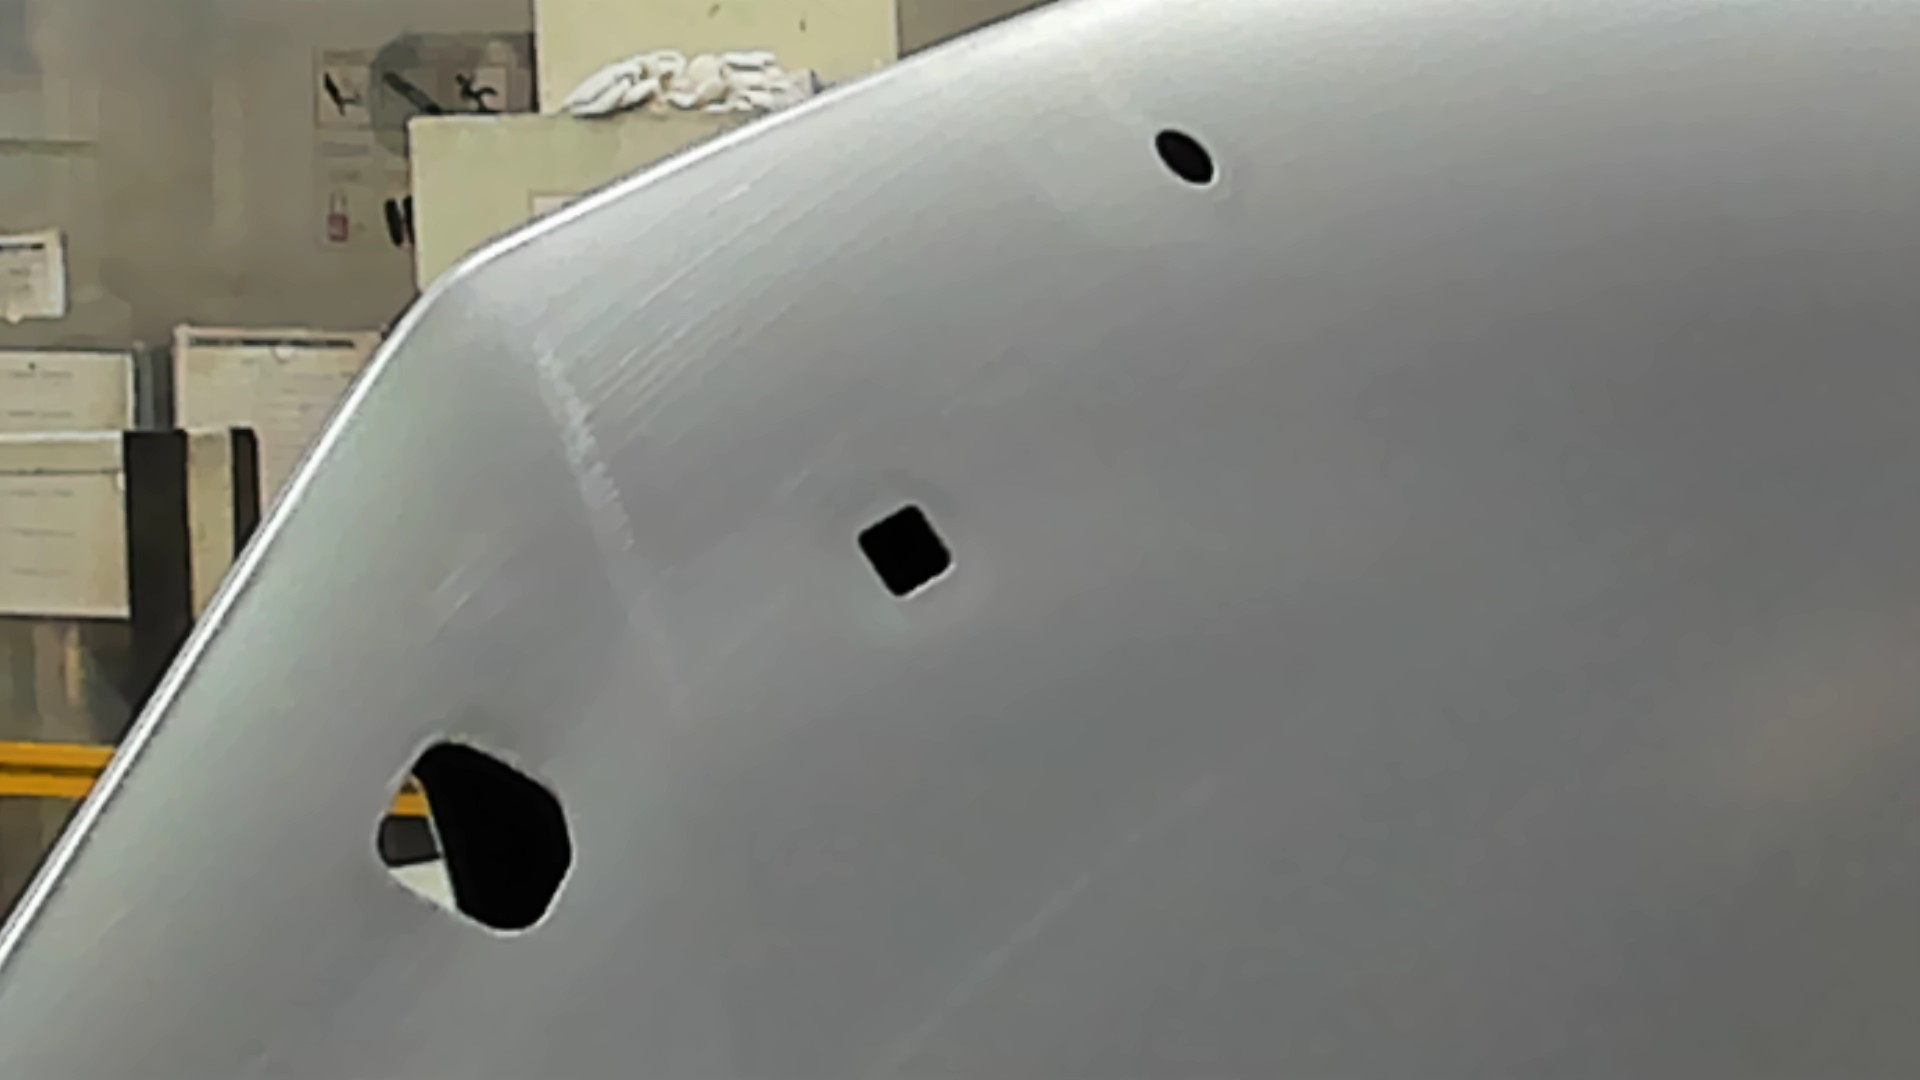chico: (1149, 123, 1221, 194)
grande: (371, 733, 584, 944)
mediano: (848, 497, 961, 609)
